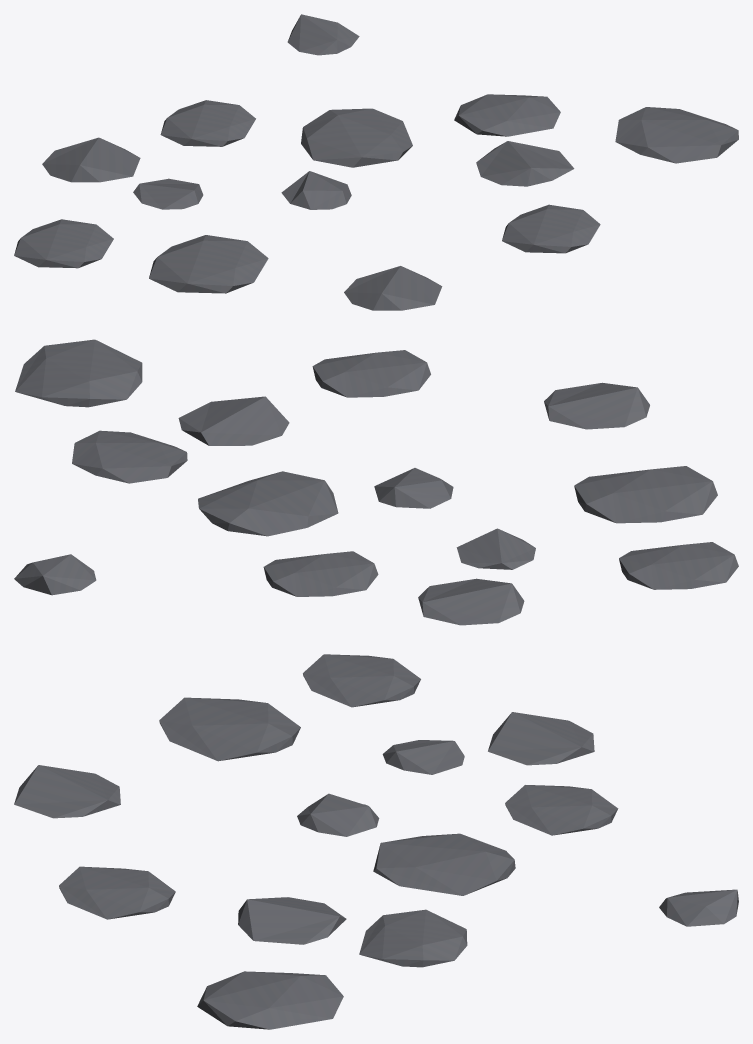
The model's file is Road_Rocks_2.fbx.
3 views of the same model, one above another, from view 1: azimuth 30°, elevation 25°; view 2: azimuth 150°, elevation 25°; view 3: azimuth 270°, elevation 25° (orthographic). The views are drawn at different scales.
Visible parts, largest first — view 1: polySurface10320; view 2: polySurface10320; view 3: polySurface10320.
Boxes of the visible parts, <box> form: polySurface10320: <box>14,14,738,310</box>; polySurface10320: <box>14,339,738,625</box>; polySurface10320: <box>14,654,738,1029</box>.
Bounding box in the file's own units: 271 × 5.73 × 222.
